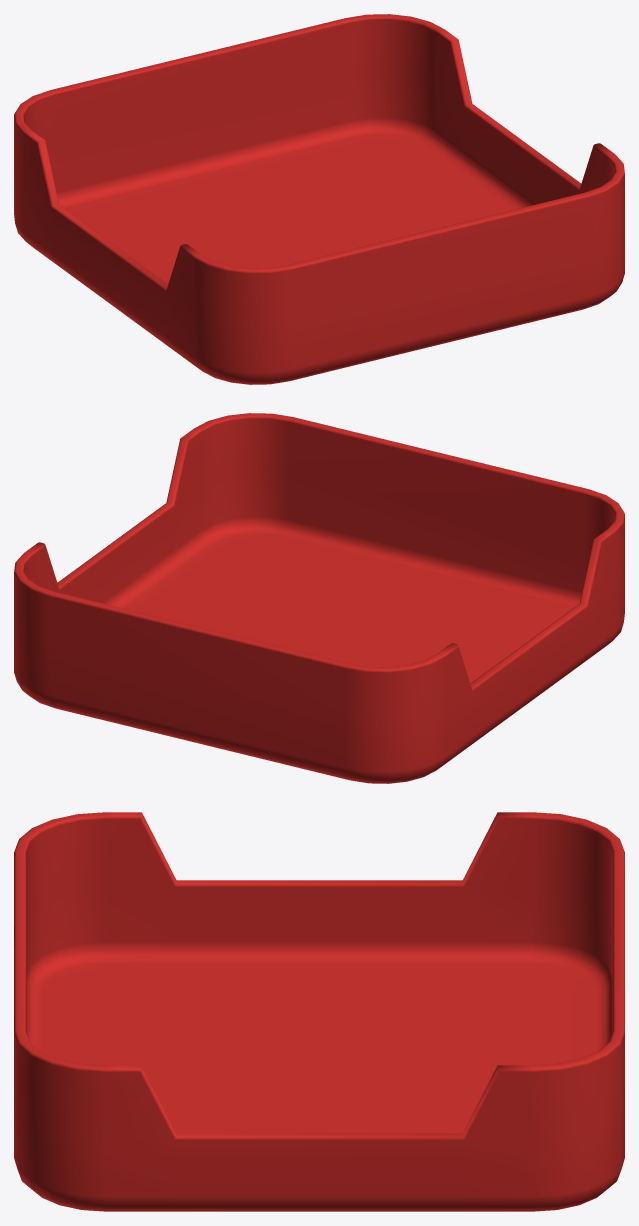
Rendered from red_plate.fbx.
3 renders of one model, top to bottom at view 1: azimuth 30°, elevation 25°; view 2: azimuth 150°, elevation 25°; view 3: azimuth 270°, elevation 25°, orthographic. The views are drawn at different scales.
Parts seen in each view (by area): view 1: tray_02_3; view 2: tray_02_3; view 3: tray_02_3.
Part boxes in pixels (x1,y1,x2,y2): tray_02_3: (14,14,624,384); tray_02_3: (14,413,624,783); tray_02_3: (14,812,624,1211).
Size of the model in its own units: 178 by 48.58 by 178.
